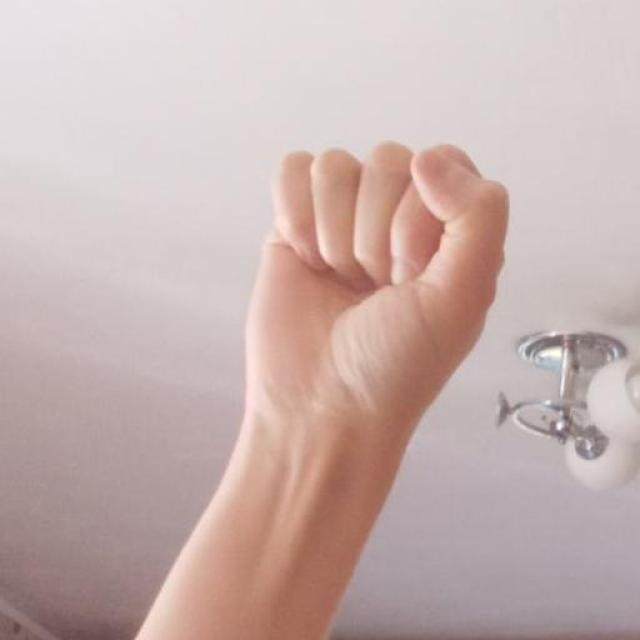hand: (240, 138, 510, 444)
